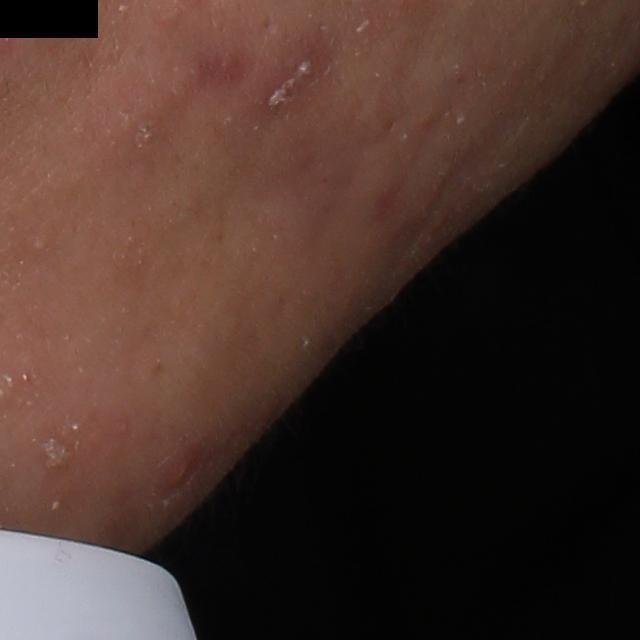comedo: (29, 236, 45, 260)
papule: (156, 444, 199, 497), (286, 44, 332, 90)
